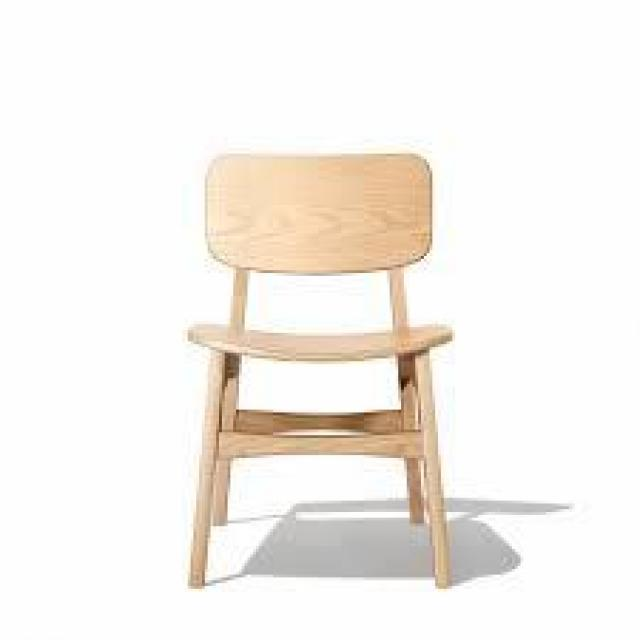chair: (135, 100, 553, 600)
